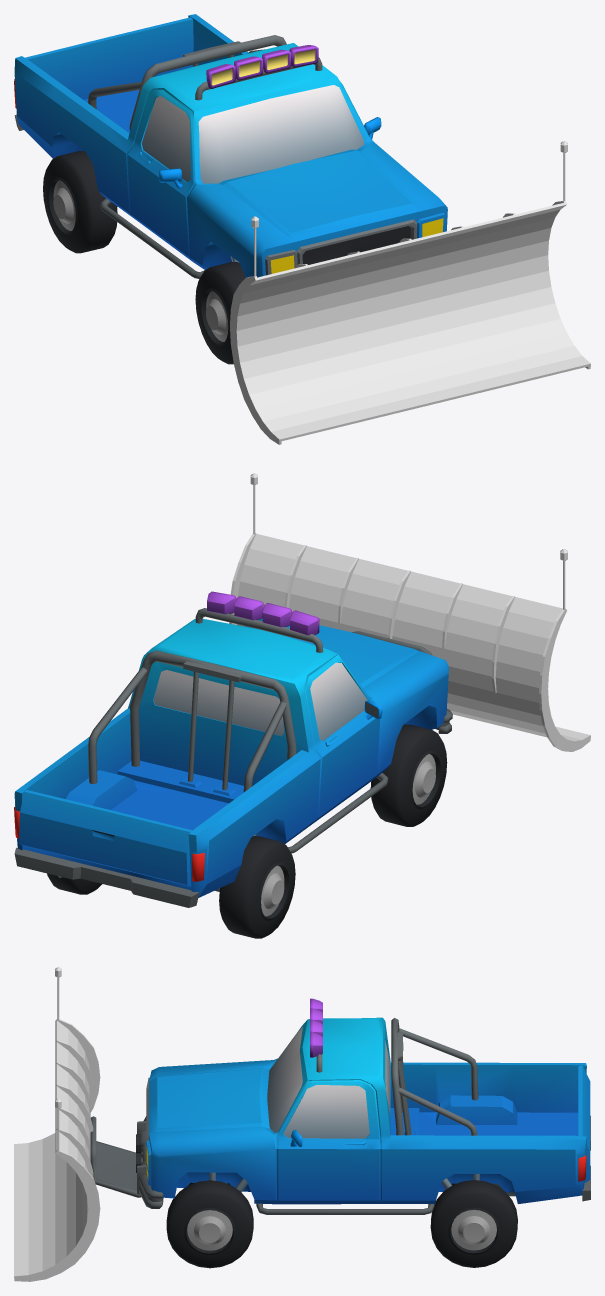
File: Car_Test.fbx
The picture shows the model from 3 angles, top to bottom: view 1: azimuth 30°, elevation 25°; view 2: azimuth 150°, elevation 25°; view 3: azimuth 270°, elevation 25°; orthographic projection. The views are drawn at different scales.
Visible parts, largest first — view 1: RescueCar.002, Cylinder; view 2: RescueCar.002, Cylinder; view 3: RescueCar.002, Cylinder.
Part boxes in pixels (x1=…): RescueCar.002: x1=14, y1=14, x2=447, y2=364; Cylinder: x1=230, y1=141, x2=590, y2=444; RescueCar.002: x1=14, y1=591, x2=452, y2=938; Cylinder: x1=229, y1=473, x2=590, y2=751; RescueCar.002: x1=90, y1=998, x2=590, y2=1268; Cylinder: x1=14, y1=967, x2=100, y2=1281.
Size of the model in its own units: 416 by 299 by 755.
